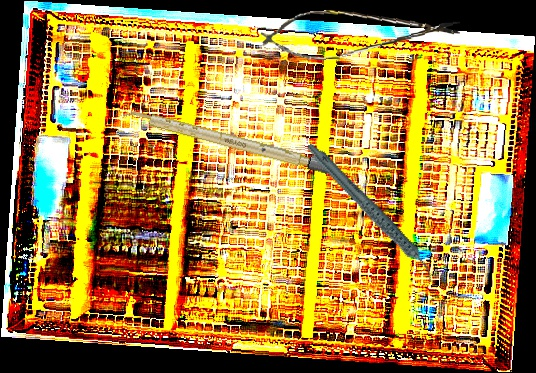Handpiece: (304, 123, 437, 303)
Micro Scissor: (259, 1, 462, 64)
Scalpel Handle: (121, 105, 333, 175)
